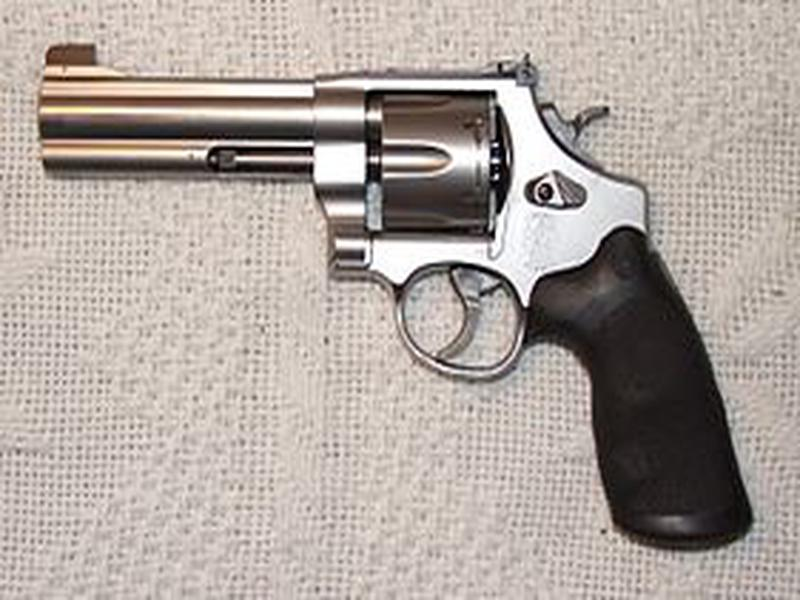Revolver: (23, 21, 757, 566)
